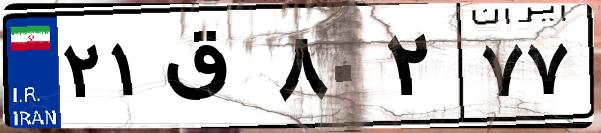0: (330, 28, 385, 110)
1: (110, 28, 158, 98)
2: (385, 28, 445, 110), (57, 26, 110, 100)
7: (475, 38, 525, 113), (525, 38, 570, 115)
8: (270, 28, 330, 110)
ق: (158, 20, 270, 120)
